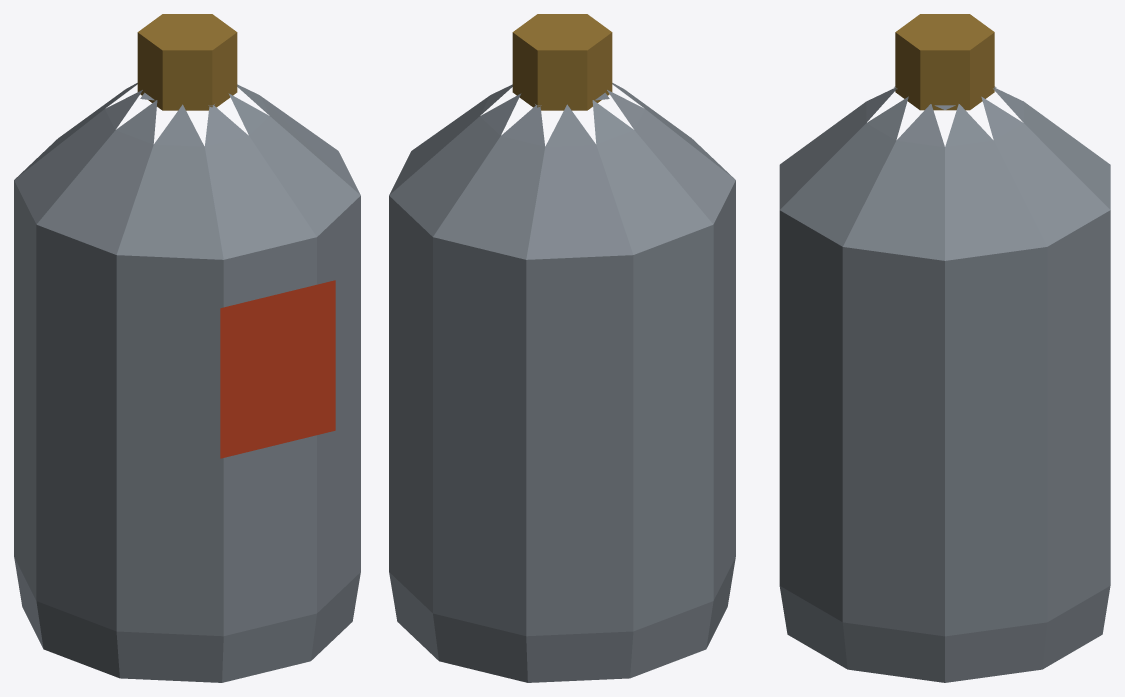
Rendered from projector-canister-incendiary.lod.glb.
The picture shows the model from 3 angles, left to right: view 1: azimuth 30°, elevation 25°; view 2: azimuth 150°, elevation 25°; view 3: azimuth 270°, elevation 25°; orthographic projection.
Parts seen in each view (by area): view 1: m; view 2: m; view 3: m.
Boxes of the visible parts, box(x1,y1,x2,y2) form: m: box(14, 14, 360, 682); m: box(389, 14, 735, 682); m: box(779, 14, 1110, 682).
Bounding box in the file's own units: 0.0375 × 0.069 × 0.0373.
